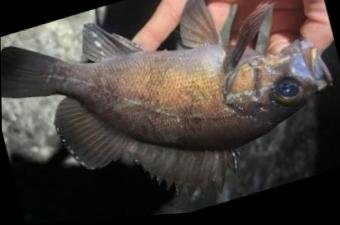fish: (1, 0, 333, 202)
